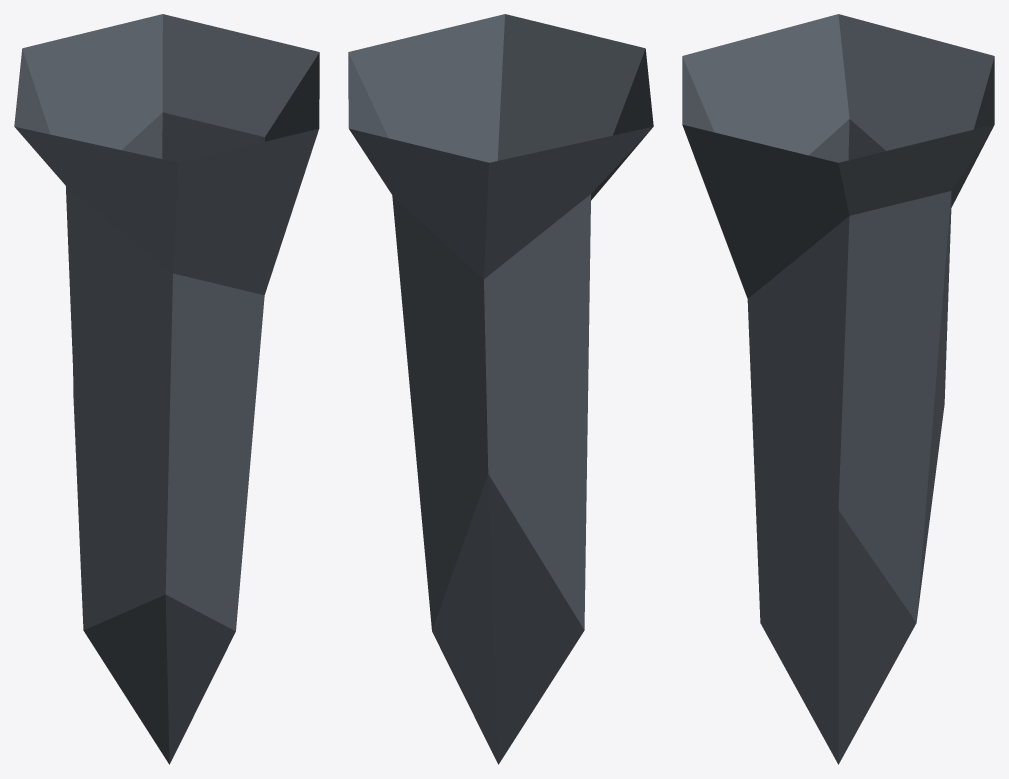
Rendered from Stalacmite-A07.fbx.
3 views of the same model, side by side, from view 1: azimuth 30°, elevation 25°; view 2: azimuth 150°, elevation 25°; view 3: azimuth 270°, elevation 25° (orthographic).
Visible parts, largest first — view 1: Stalacmite-A07; view 2: Stalacmite-A07; view 3: Stalacmite-A07.
Part boxes in pixels (left/top/right/bottom): Stalacmite-A07: left=14, top=14, right=319, bottom=764; Stalacmite-A07: left=348, top=14, right=653, bottom=764; Stalacmite-A07: left=682, top=14, right=994, bottom=764.
Size of the model in its own units: 101 by 213 by 89.41.
